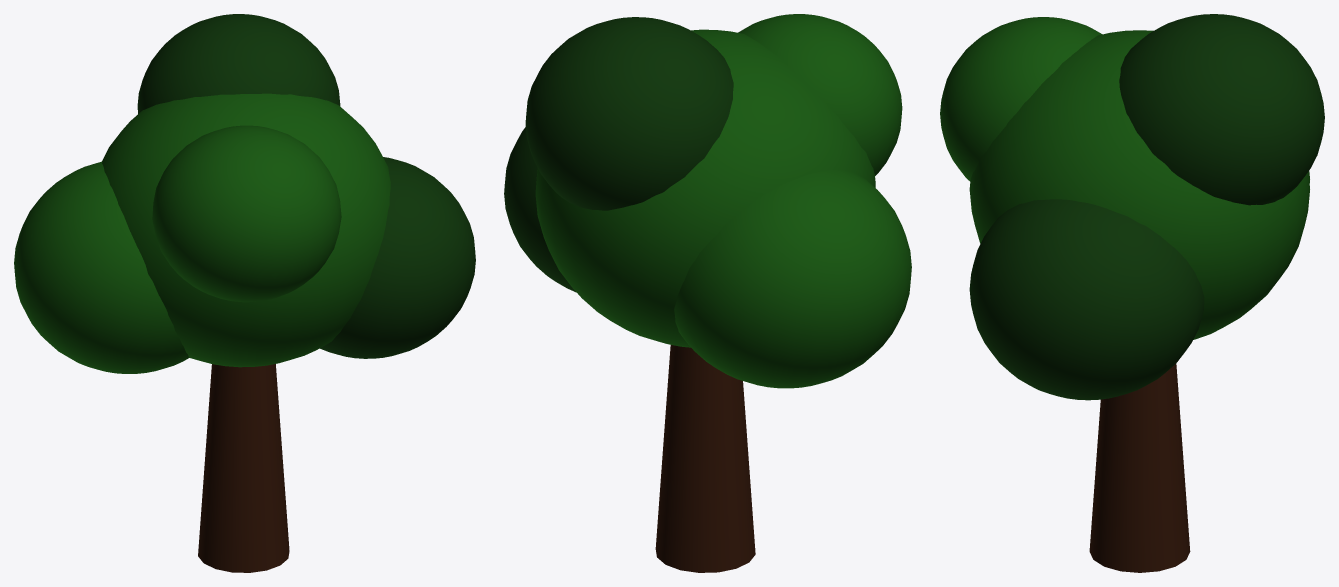
Rendered from tree.obj.
The picture shows the model from 3 angles, left to right: view 1: azimuth 30°, elevation 25°; view 2: azimuth 150°, elevation 25°; view 3: azimuth 270°, elevation 25°; orthographic projection. The views are drawn at different scales.
Parts seen in each view (by area): view 1: canopy_0, canopy_4, canopy_2, canopy_1, trunk, canopy_3; view 2: canopy_2, canopy_0, canopy_3, trunk, canopy_4, canopy_1; view 3: canopy_0, canopy_1, canopy_3, trunk, canopy_4.
Part boxes in pixels (x1=…): canopy_0: x1=102, y1=93, x2=390, y2=367; canopy_4: x1=152, y1=125, x2=341, y2=302; canopy_2: x1=14, y1=161, x2=188, y2=373; canopy_1: x1=320, y1=157, x2=475, y2=358; trunk: x1=198, y1=364, x2=289, y2=572; canopy_3: x1=137, y1=14, x2=340, y2=113; canopy_2: x1=674, y1=169, x2=911, y2=388; canopy_0: x1=535, y1=29, x2=875, y2=347; canopy_3: x1=525, y1=17, x2=733, y2=210; trunk: x1=655, y1=345, x2=755, y2=572; canopy_4: x1=738, y1=14, x2=902, y2=175; canopy_1: x1=504, y1=127, x2=576, y2=292; canopy_0: x1=969, y1=30, x2=1309, y2=339; canopy_1: x1=969, y1=199, x2=1204, y2=400; canopy_3: x1=1119, y1=14, x2=1324, y2=205; trunk: x1=1089, y1=364, x2=1190, y2=572; canopy_4: x1=940, y1=17, x2=1102, y2=181.
Bounding box in the file's own units: 3.3 × 4.04 × 2.6.
